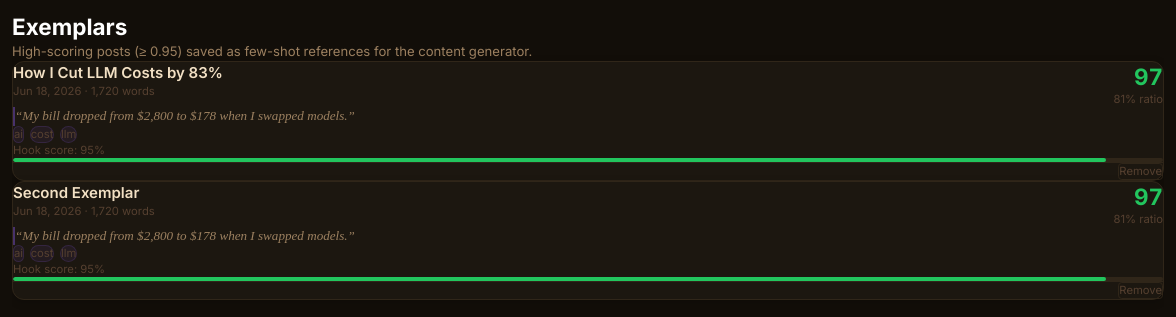
Test: ExemplarsPage › removed exemplar card disappears from the list
Click the button with test id "remove-exemplar-run-abc" at (1141, 171), box [1118,162,1163,180]
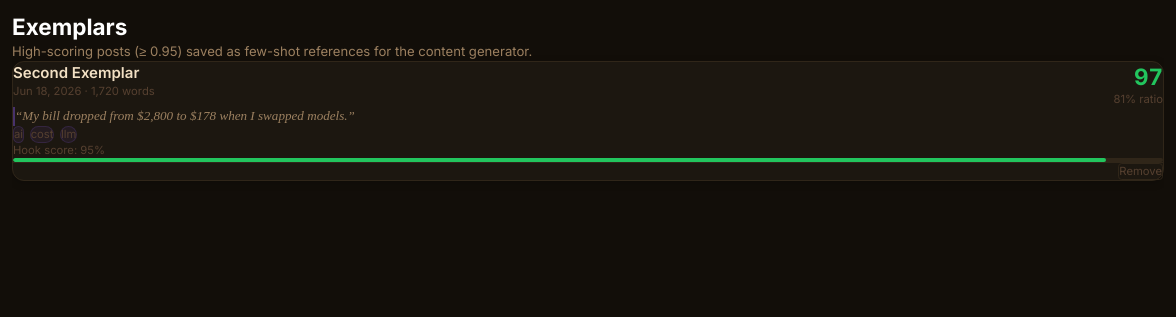
Expected: the element with test id "exemplar-card-run-xyz" is shown, [12,61,1164,181]
Now the element with test id "exemplar-card-run-abc" is gone
